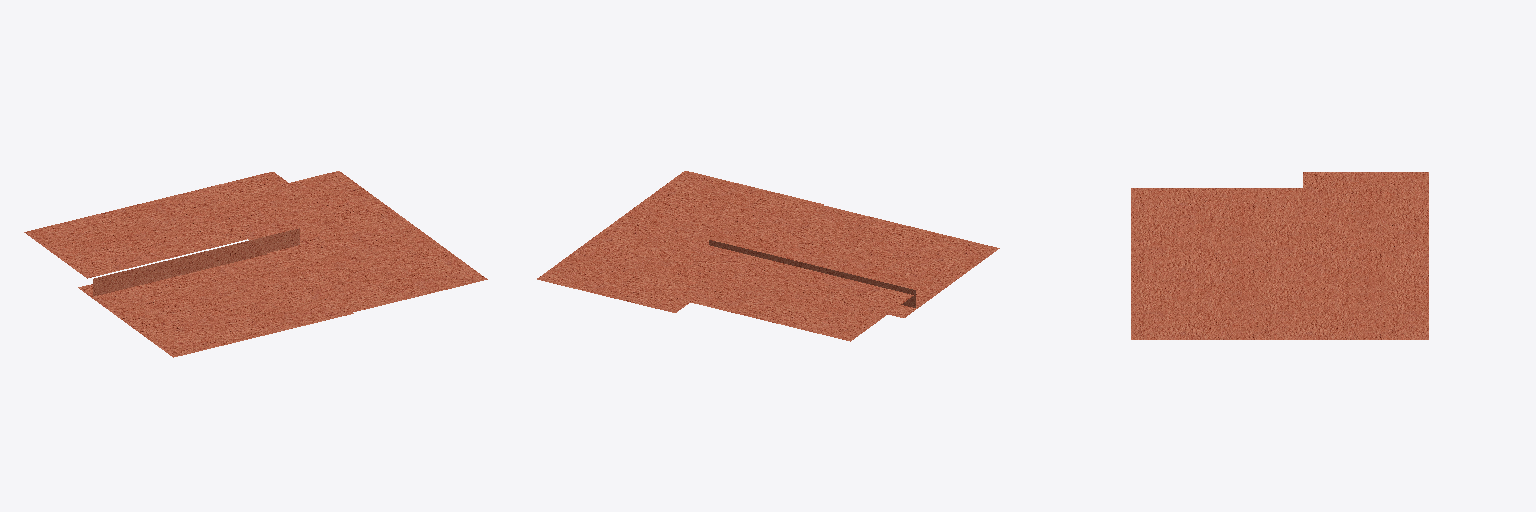
The picture shows the model from 3 angles: view 1: azimuth 30°, elevation 25°; view 2: azimuth 150°, elevation 25°; view 3: azimuth 270°, elevation 25°; orthographic projection.
Parts seen in each view (by area): view 1: techos.003_Cube.030; view 2: techos.003_Cube.030; view 3: techos.003_Cube.030.
Part boxes in pixels (x1,y1,x2,y2): techos.003_Cube.030: (24, 171, 487, 357); techos.003_Cube.030: (537, 171, 999, 341); techos.003_Cube.030: (1131, 172, 1428, 339).
Bounding box in the file's own units: 65.71 × 3.79 × 54.01.
Materials: 1 (1 with a texture image).